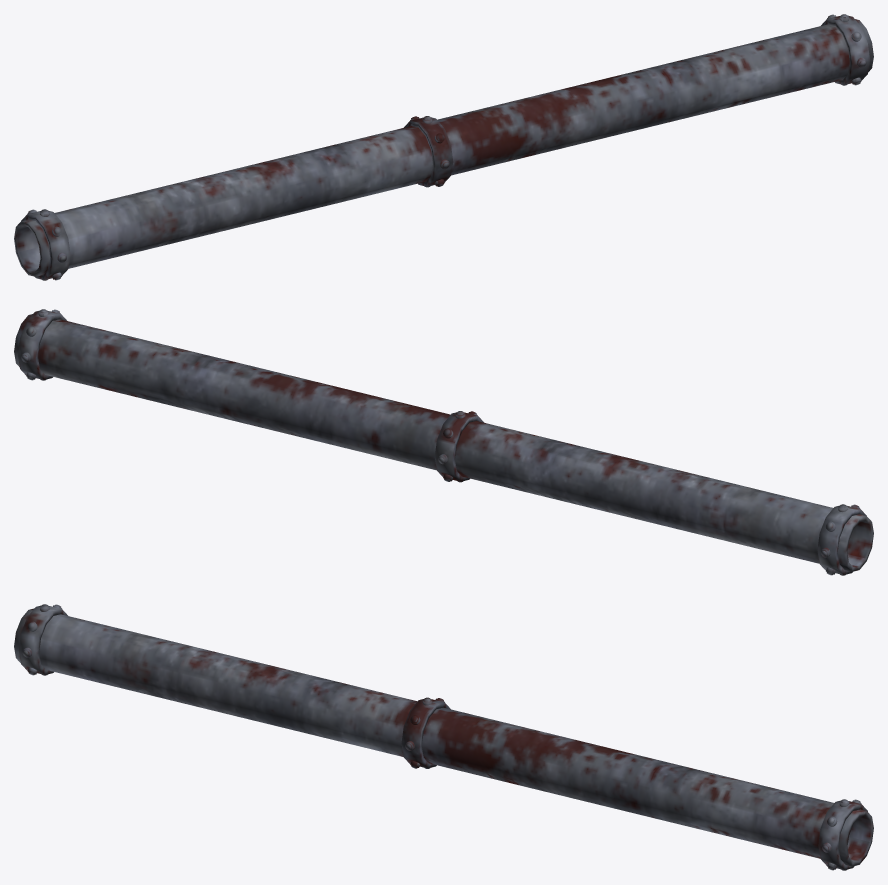
File: large pipe.fbx
3 views of the same model, one above another, from view 1: azimuth 30°, elevation 25°; view 2: azimuth 150°, elevation 25°; view 3: azimuth 330°, elevation 25° (orthographic).
Parts seen in each view (by area): view 1: Cube; view 2: Cube; view 3: Cube.
Part boxes in pixels (box(x1,y1,x2,y2)): Cube: box(14, 14, 873, 280); Cube: box(14, 309, 873, 575); Cube: box(14, 604, 873, 870).
Size of the model in its own units: 1478 by 116 by 116.
